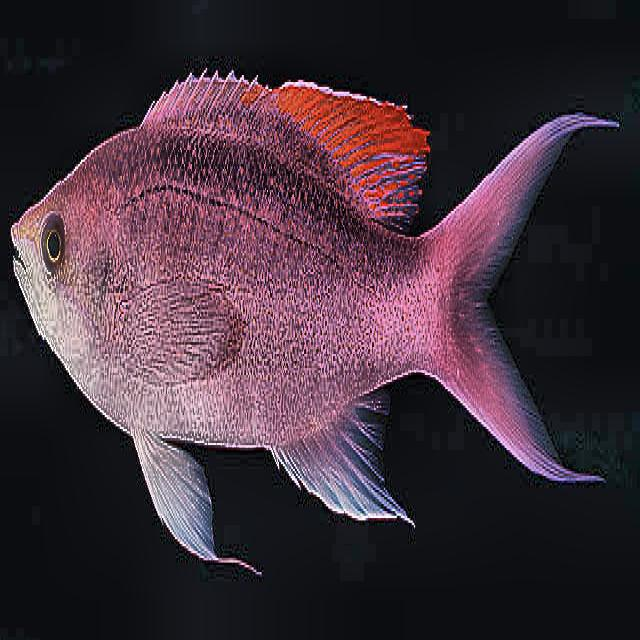fish: (9, 66, 621, 578)
